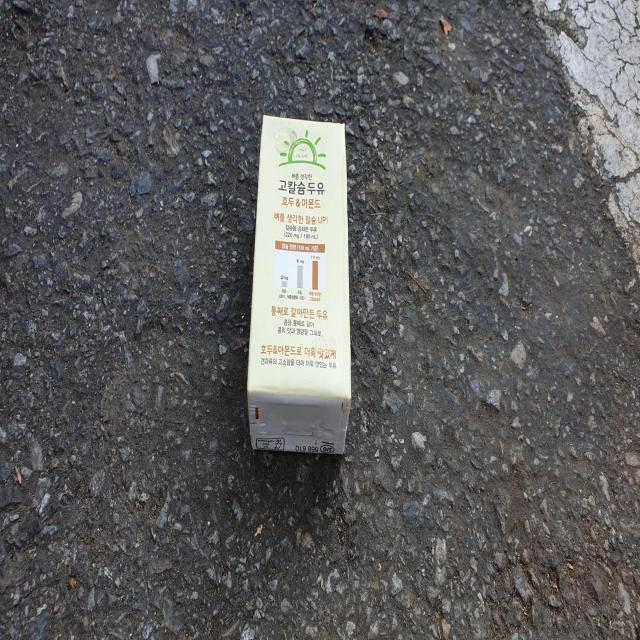paperpack: (247, 114, 351, 454)
